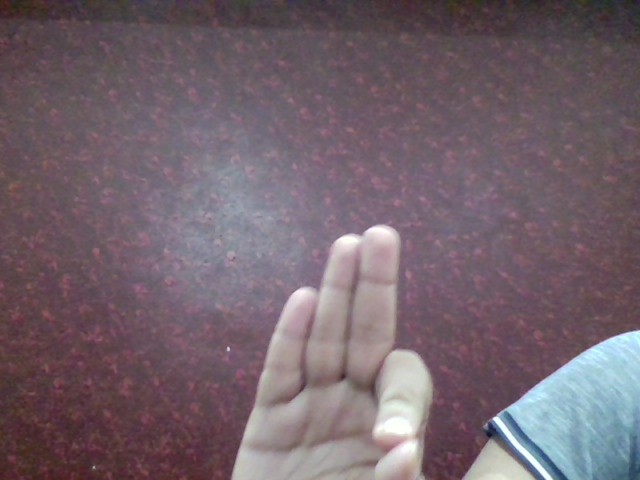f: (218, 219, 441, 480)
